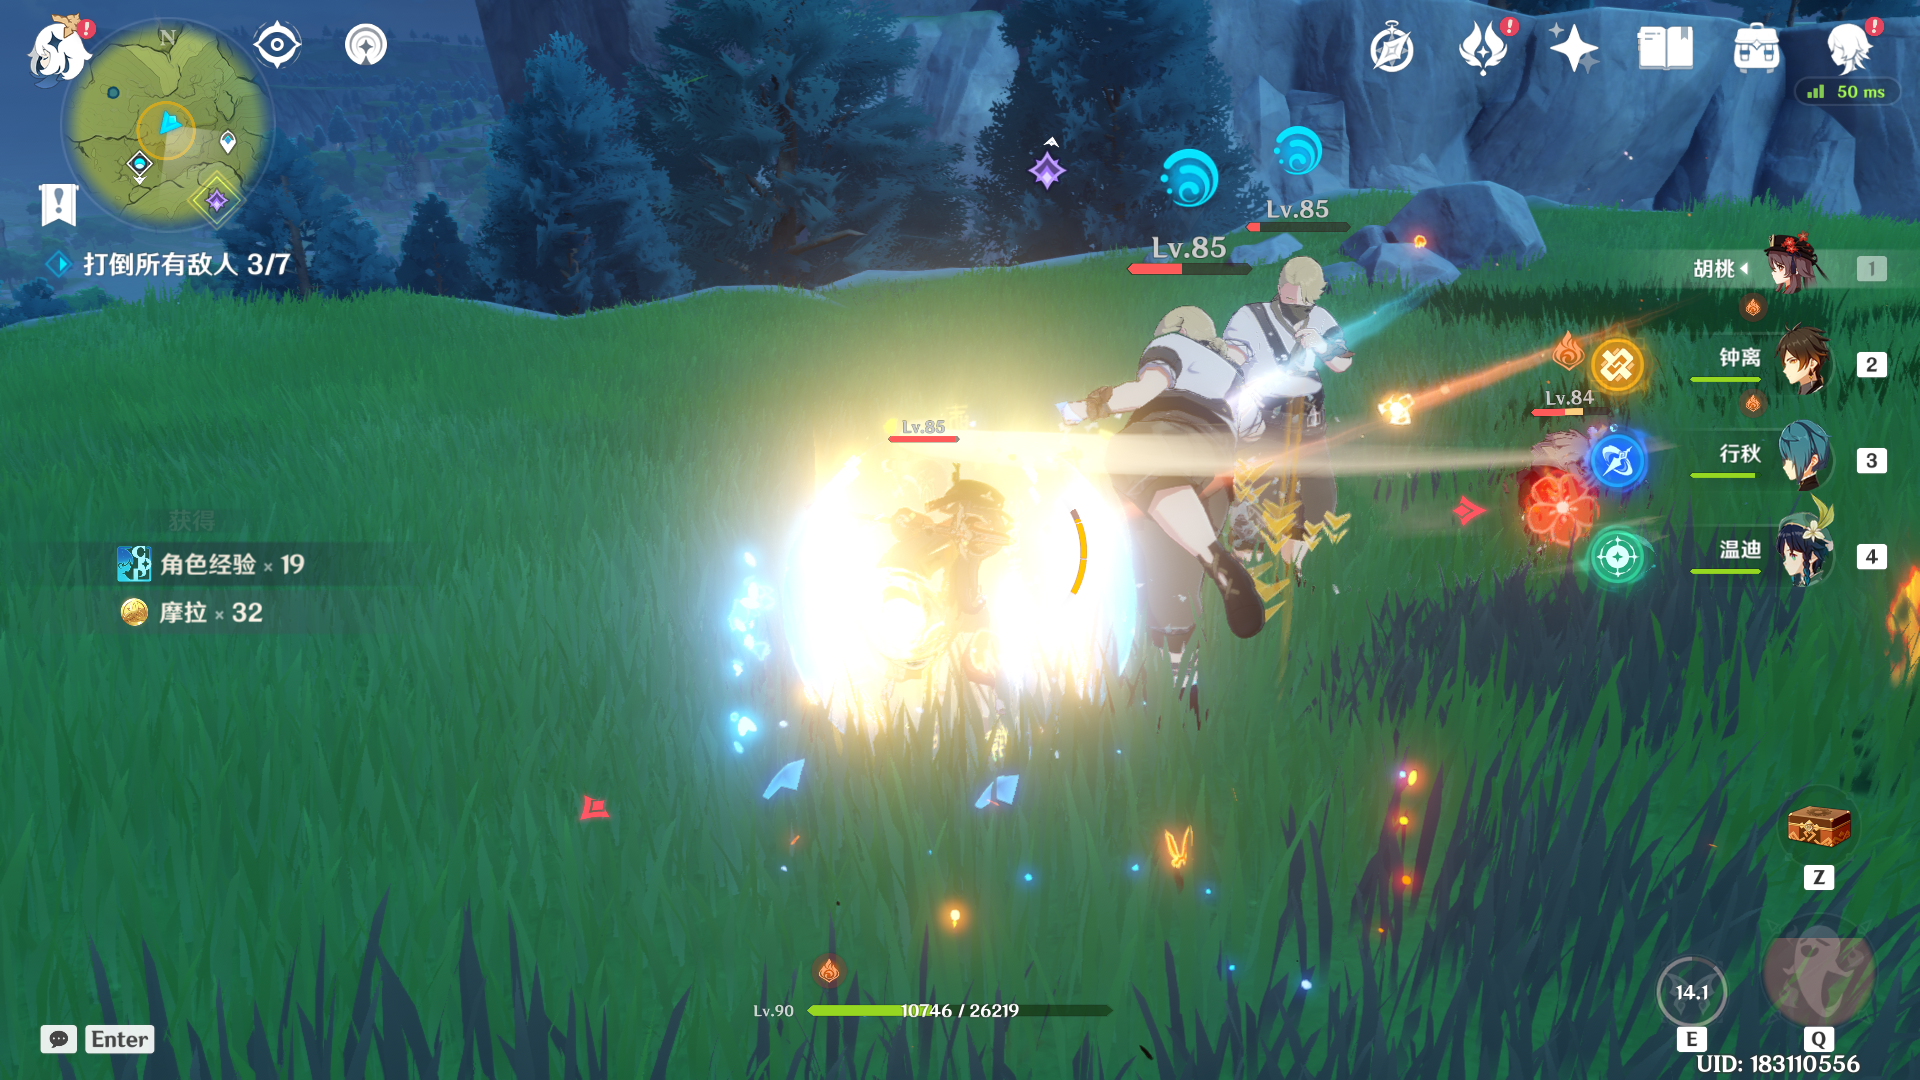character: (837, 473, 1062, 756)
robber: (1051, 291, 1298, 675), (1183, 245, 1427, 622)
